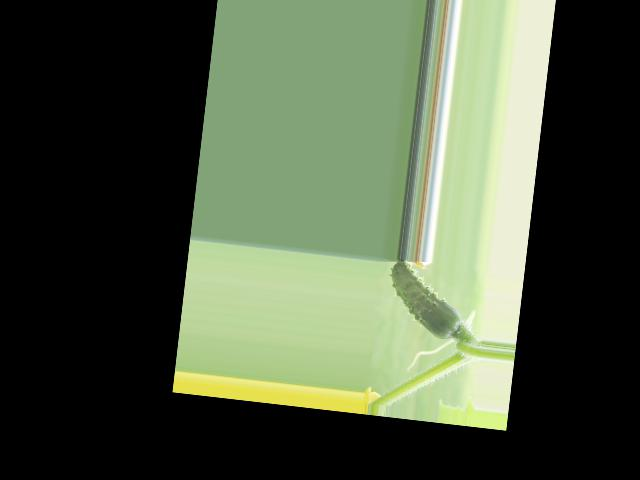cucumber: (383, 260, 466, 342)
